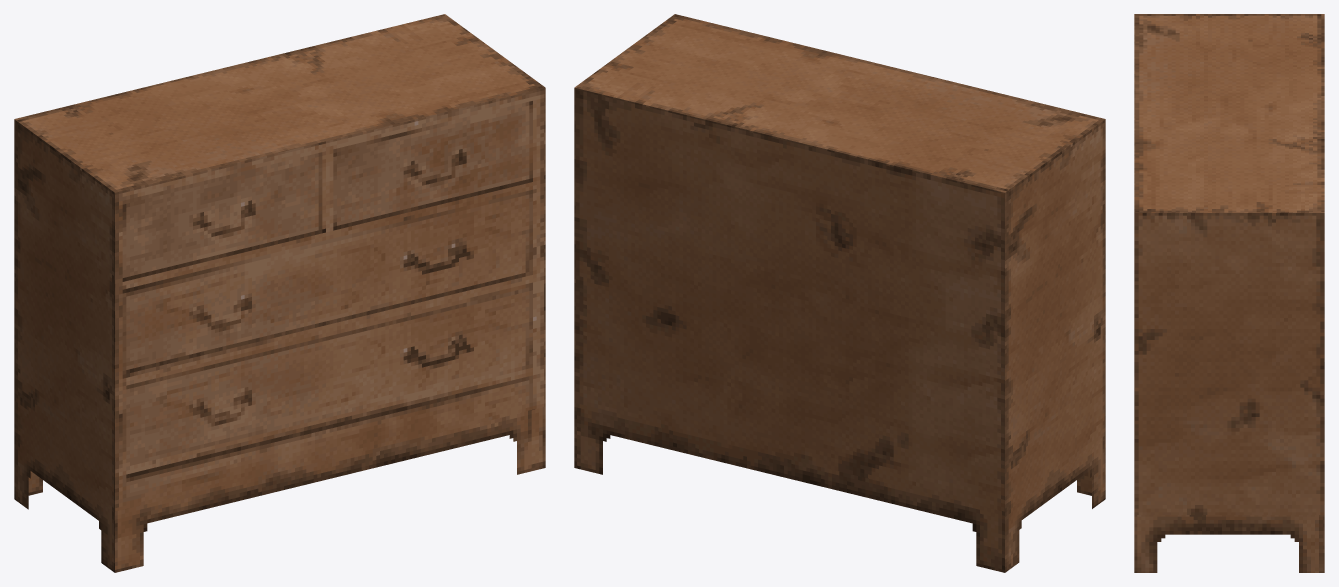
The model's file is psx_wooden_drawers.glb.
3 views of the same model, side by side, from view 1: azimuth 30°, elevation 25°; view 2: azimuth 150°, elevation 25°; view 3: azimuth 270°, elevation 25° (orthographic). The views are drawn at different scales.
Visible parts, largest first — view 1: SM_WoodenDrawers_0; view 2: SM_WoodenDrawers_0; view 3: SM_WoodenDrawers_0.
Boxes of the visible parts, bbox=[...] form: SM_WoodenDrawers_0: bbox=[14, 14, 545, 572]; SM_WoodenDrawers_0: bbox=[574, 14, 1105, 572]; SM_WoodenDrawers_0: bbox=[1134, 14, 1324, 572].
Size of the model in its own units: 1.19 by 1 by 0.48.
Materials: 1 (1 with a texture image).
